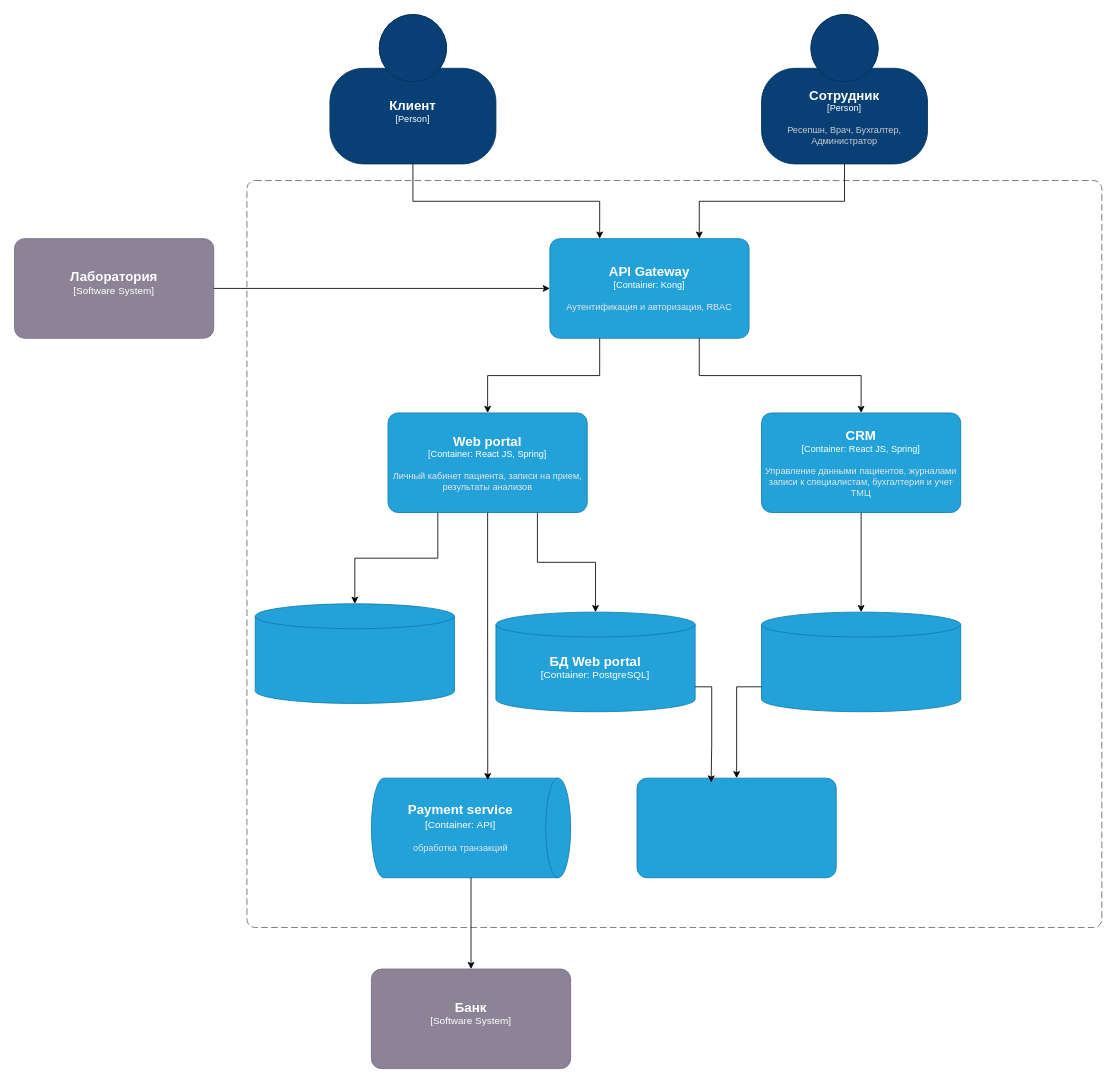
Some shapes in this 1116 by 1083 pixel diagram are drawn without their labels. The box of each missing label's shape, as (x1, y1, x2, y2) in pixels:
File storage [Container: S3] Результаты анализов, файлы пациентов: (254, 603, 454, 703)
Medicamente [Software System]: (246, 180, 1102, 928)
БД CRM [Container: PostgreSQL]: (761, 611, 961, 712)
Тегирование данных [Container: Data Lineage]: (636, 777, 836, 878)
